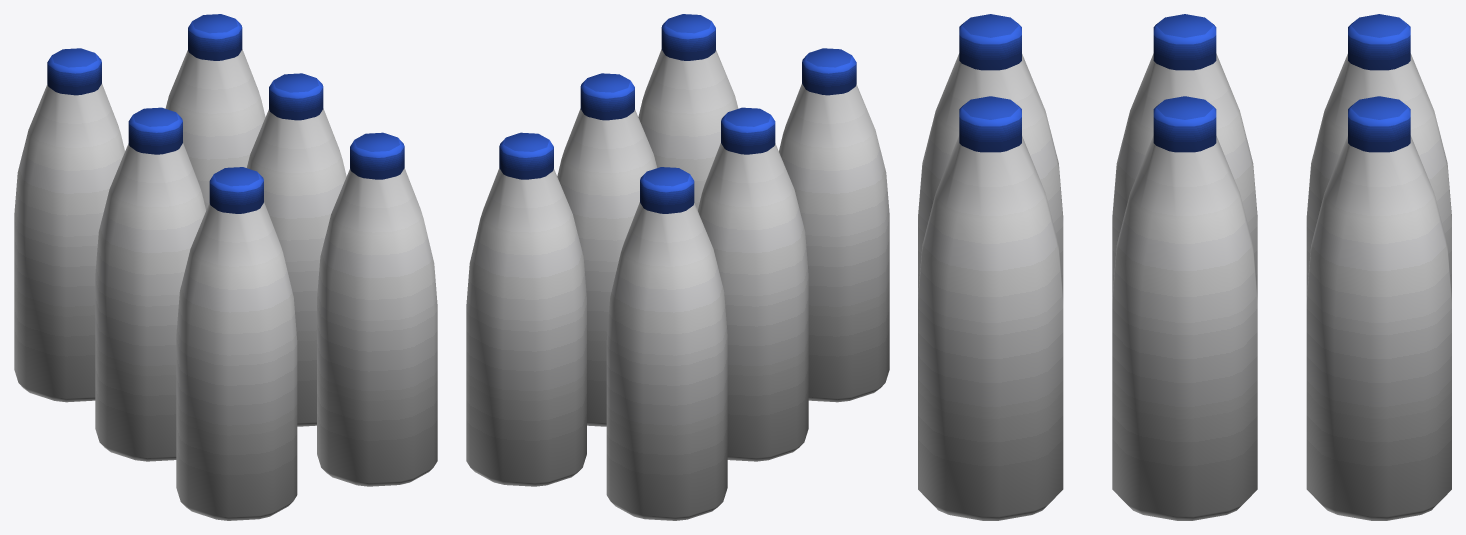
File: bouteille.glb
The picture shows the model from 3 angles, left to right: view 1: azimuth 30°, elevation 25°; view 2: azimuth 150°, elevation 25°; view 3: azimuth 270°, elevation 25°; orthographic projection. The views are drawn at different scales.
Parts seen in each view (by area): view 1: Circle; view 2: Circle; view 3: Circle.
Part boxes in pixels (x1,y1,x2,y2): Circle: (14,14,437,520); Circle: (466,14,889,520); Circle: (918,14,1451,520).
Bounding box in the file's own units: 0.3494 × 0.4369 × 0.5494.
Materials: 1 (1 with a texture image).
